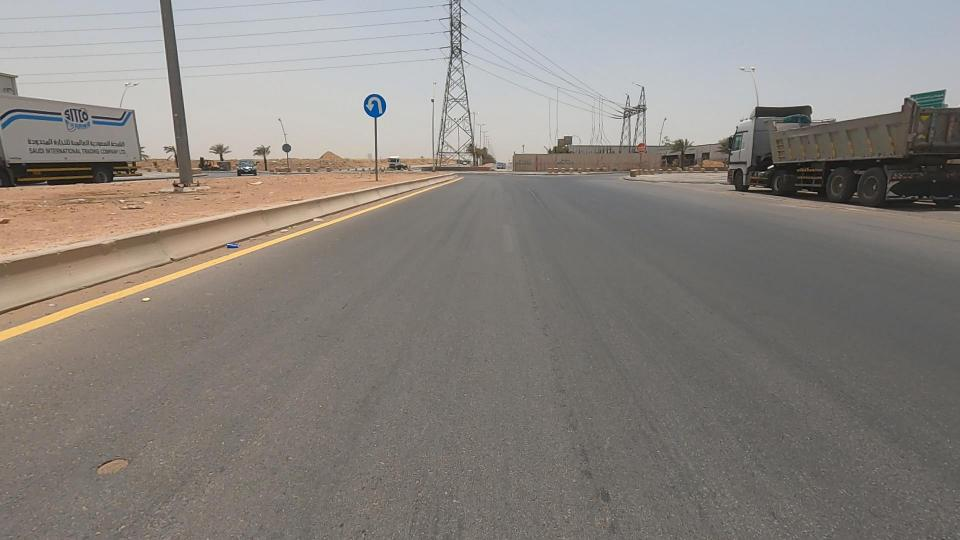CLUTTER_SIDEWALK: (0, 164, 232, 259), (181, 157, 386, 220)
GARBAGE: (82, 181, 183, 237), (199, 225, 271, 269), (226, 164, 286, 201), (298, 201, 343, 243)
